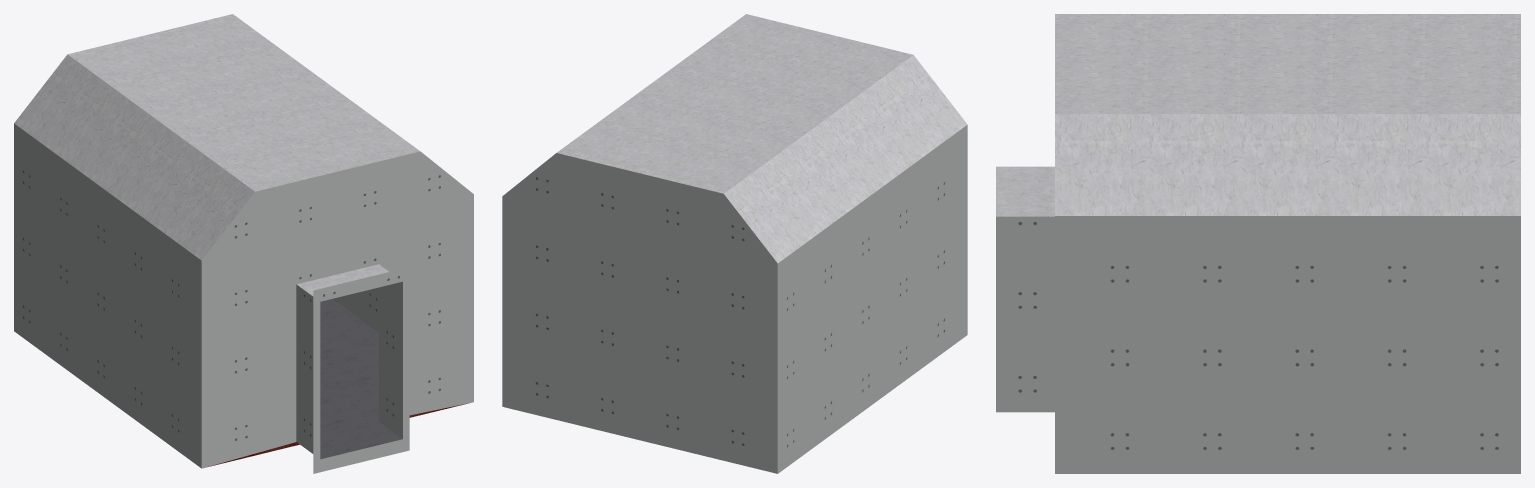
Rendered from starship_cell.FBX.
3 views of the same model, side by side, from view 1: azimuth 30°, elevation 25°; view 2: azimuth 150°, elevation 25°; view 3: azimuth 270°, elevation 25° (orthographic). The views are drawn at different scales.
Visible parts, largest first — view 1: Cell; view 2: Cell; view 3: Cell.
Part boxes in pixels (<box>): Cell: <box>14,14,473,473</box>; Cell: <box>502,14,967,473</box>; Cell: <box>996,14,1520,473</box>.
Bounding box in the file's own units: 2.06 × 1.97 × 2.76.
